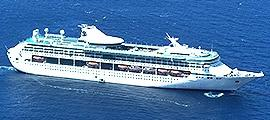youlun: (6, 22, 264, 86)
